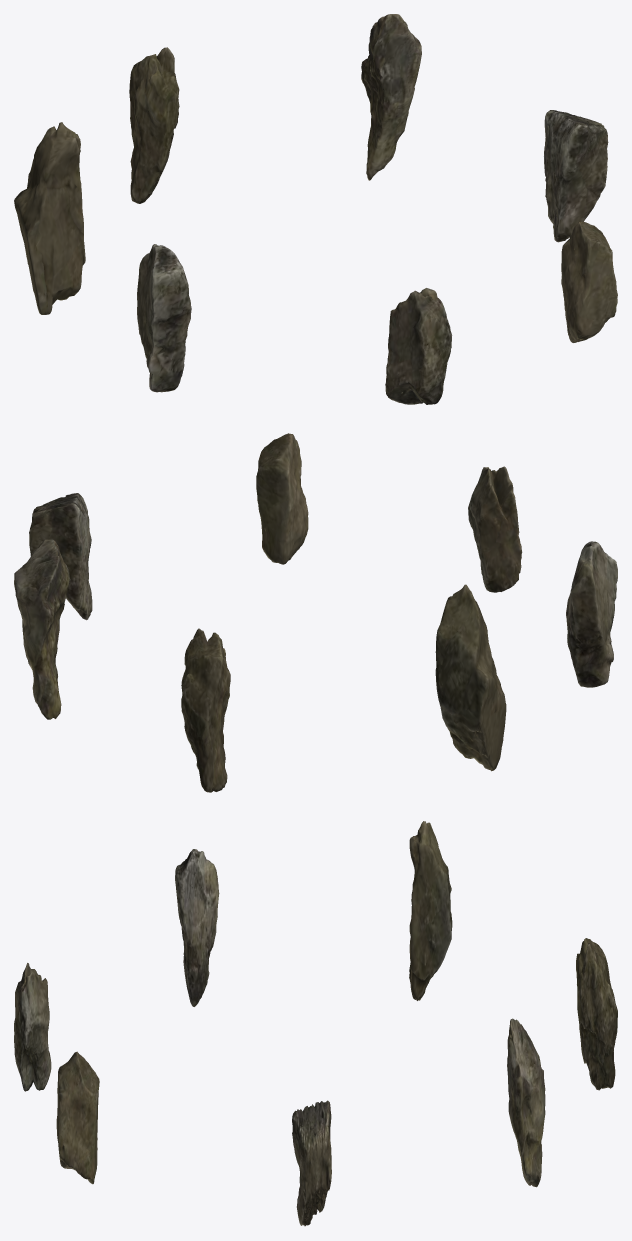
The model's file is stones.glb.
The picture shows the model from 3 angles, top to bottom: view 1: azimuth 30°, elevation 25°; view 2: azimuth 150°, elevation 25°; view 3: azimuth 270°, elevation 25°; orthographic projection.
Parts seen in each view (by area): view 1: rock_moss_set_02_rock13.001, rock_moss_set_02_rock08.001, rock_moss_set_02_rock09.001, rock_moss_set_02_rock11.001, rock_moss_set_02_rock10.001, rock_moss_set_02_rock12.001, rock_moss_set_02_rock07.001; view 2: rock_moss_set_02_rock13.001, rock_moss_set_02_rock09.001, rock_moss_set_02_rock12.001, rock_moss_set_02_rock10.001, rock_moss_set_02_rock07.001, rock_moss_set_02_rock11.001, rock_moss_set_02_rock08.001; view 3: rock_moss_set_02_rock13.001, rock_moss_set_02_rock12.001, rock_moss_set_02_rock10.001, rock_moss_set_02_rock09.001, rock_moss_set_02_rock07.001, rock_moss_set_02_rock08.001, rock_moss_set_02_rock11.001.
Boxes of the visible parts, x1,y1,x2,y2 form: rock_moss_set_02_rock13.001: [14, 122, 85, 314]; rock_moss_set_02_rock08.001: [544, 110, 608, 242]; rock_moss_set_02_rock09.001: [361, 14, 421, 180]; rock_moss_set_02_rock11.001: [385, 288, 452, 404]; rock_moss_set_02_rock10.001: [137, 244, 191, 392]; rock_moss_set_02_rock12.001: [129, 47, 179, 203]; rock_moss_set_02_rock07.001: [561, 221, 617, 342]; rock_moss_set_02_rock13.001: [435, 584, 506, 771]; rock_moss_set_02_rock09.001: [14, 539, 69, 719]; rock_moss_set_02_rock12.001: [181, 628, 230, 792]; rock_moss_set_02_rock10.001: [566, 541, 617, 687]; rock_moss_set_02_rock07.001: [256, 433, 308, 564]; rock_moss_set_02_rock11.001: [468, 466, 522, 592]; rock_moss_set_02_rock08.001: [29, 493, 92, 620]; rock_moss_set_02_rock13.001: [409, 821, 452, 1000]; rock_moss_set_02_rock12.001: [576, 938, 617, 1090]; rock_moss_set_02_rock10.001: [175, 849, 219, 1006]; rock_moss_set_02_rock09.001: [507, 1018, 545, 1187]; rock_moss_set_02_rock07.001: [56, 1051, 99, 1184]; rock_moss_set_02_rock08.001: [292, 1100, 331, 1226]; rock_moss_set_02_rock11.001: [14, 963, 51, 1091].
Bounding box in the file's own units: 6.84 × 2.3 × 6.73.
1 material, 1 textured.
